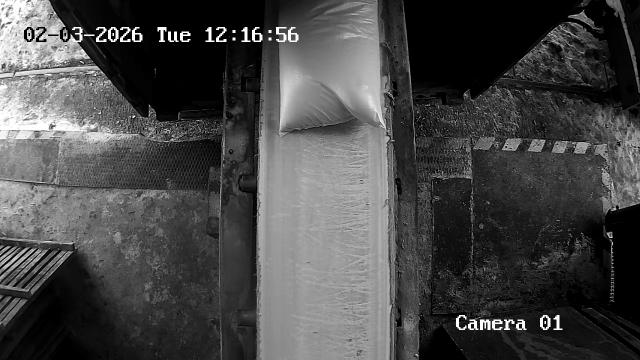bag: (278, 0, 386, 136)
